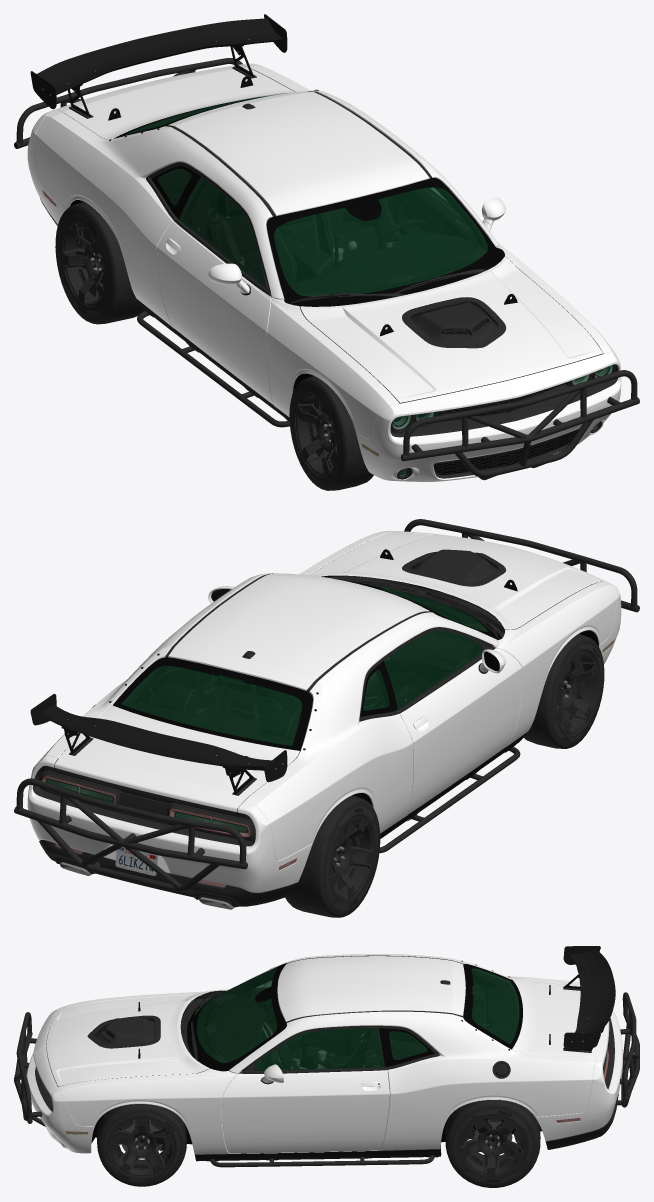
Rendered from muscle.glb.
3 views of the same model, one above another, from view 1: azimuth 30°, elevation 25°; view 2: azimuth 150°, elevation 25°; view 3: azimuth 270°, elevation 25° (orthographic). The views are drawn at different scales.
Parts seen in each view (by area): view 1: Object_60, Object_20, Object_63, Object_71, Object_48, Object_87, Object_24, Object_16, Object_52; view 2: Object_60, Object_20, Object_63, Object_71, Object_87, Object_48, Object_52, Object_16, Object_56, Object_78; view 3: Object_60, Object_63, Object_20, Object_87, Object_71, Object_48, Object_16.
Boxes of the visible parts, x1,y1,x2,y2 form: Object_60: (32,63,619,421); Object_20: (14,14,639,480); Object_63: (27,64,621,481); Object_71: (123,92,613,475); Object_48: (146,117,487,294); Object_87: (55,202,373,490); Object_24: (434,319,578,474); Object_16: (64,65,613,430); Object_52: (43,191,613,475); Object_60: (34,530,620,892); Object_20: (14,519,639,909); Object_63: (27,539,621,888); Object_71: (46,577,487,833); Object_87: (285,634,604,917); Object_48: (123,590,485,745); Object_52: (42,639,614,887); Object_16: (54,541,602,832); Object_56: (115,847,157,875); Object_78: (42,776,296,886); Object_60: (33,954,609,1154); Object_63: (26,1011,623,1153); Object_20: (14,946,639,1167); Object_87: (97,1100,540,1187); Object_71: (197,967,606,1075); Object_48: (197,968,518,1070); Object_16: (46,967,549,1153).
Size of the model in its own units: 0.0218 by 0.0149 by 0.0527.
20 materials, 11 textured.
